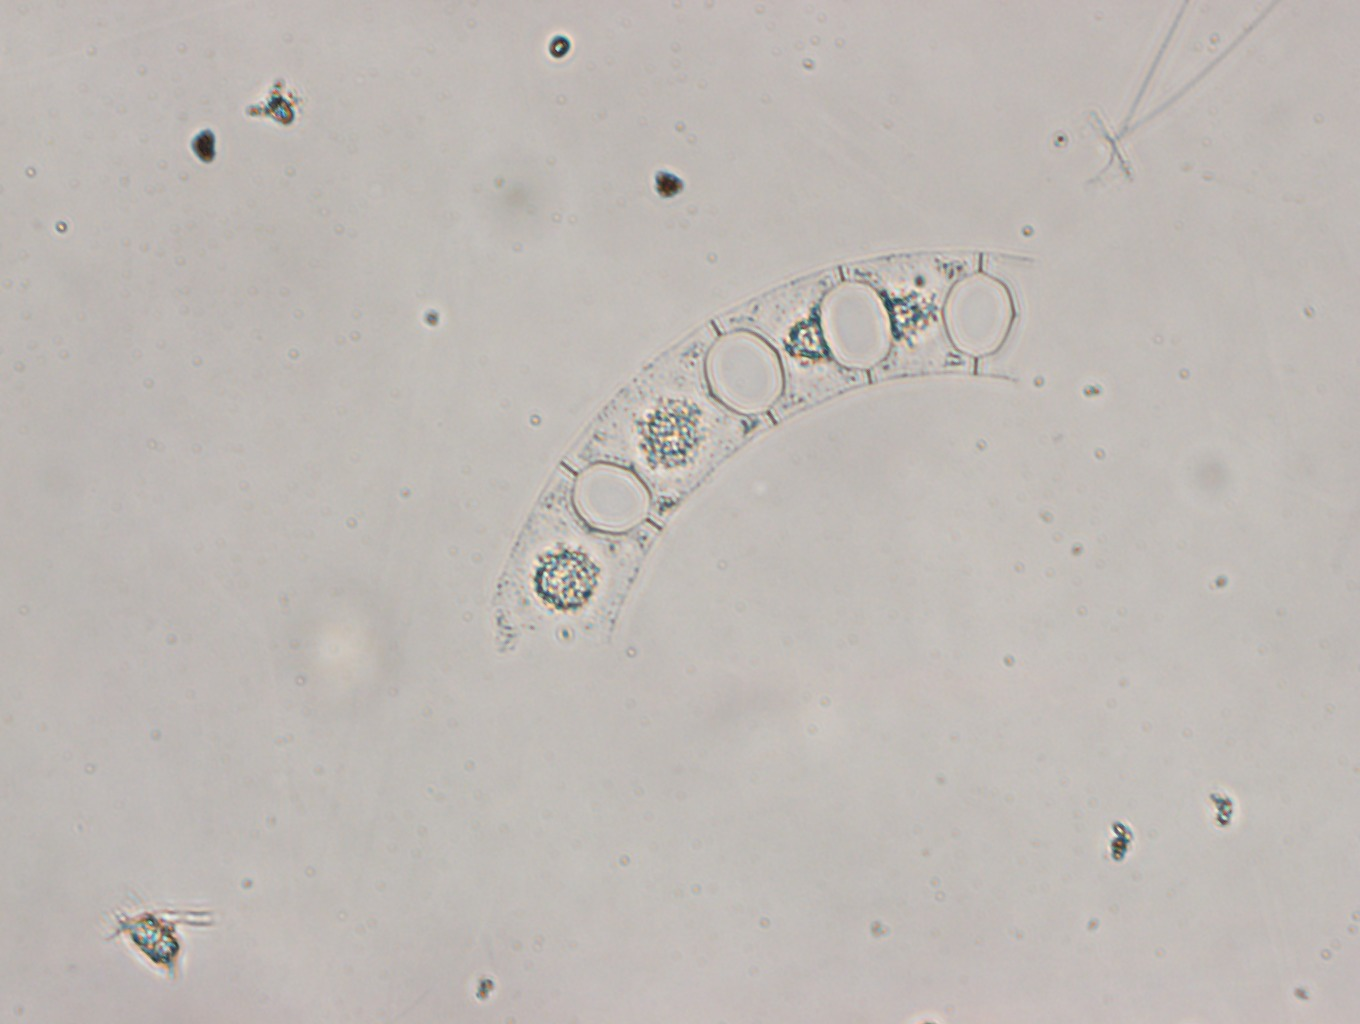eucampia: (489, 248, 1037, 648)
